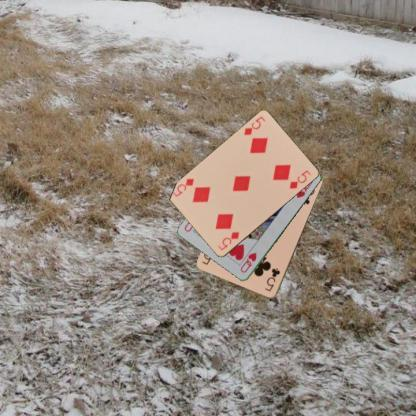5c: (262, 266, 282, 293)
5d: (214, 229, 242, 252), (240, 114, 266, 137)
Qh: (238, 250, 258, 275)
